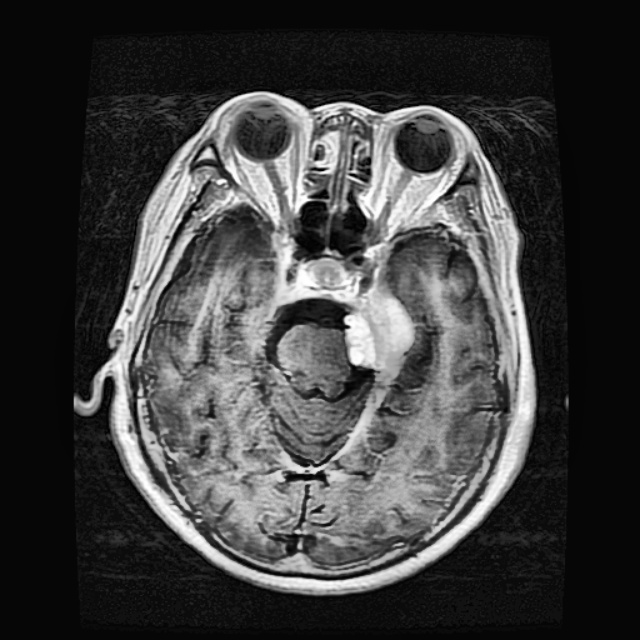Glioma: (343, 285, 410, 437)
